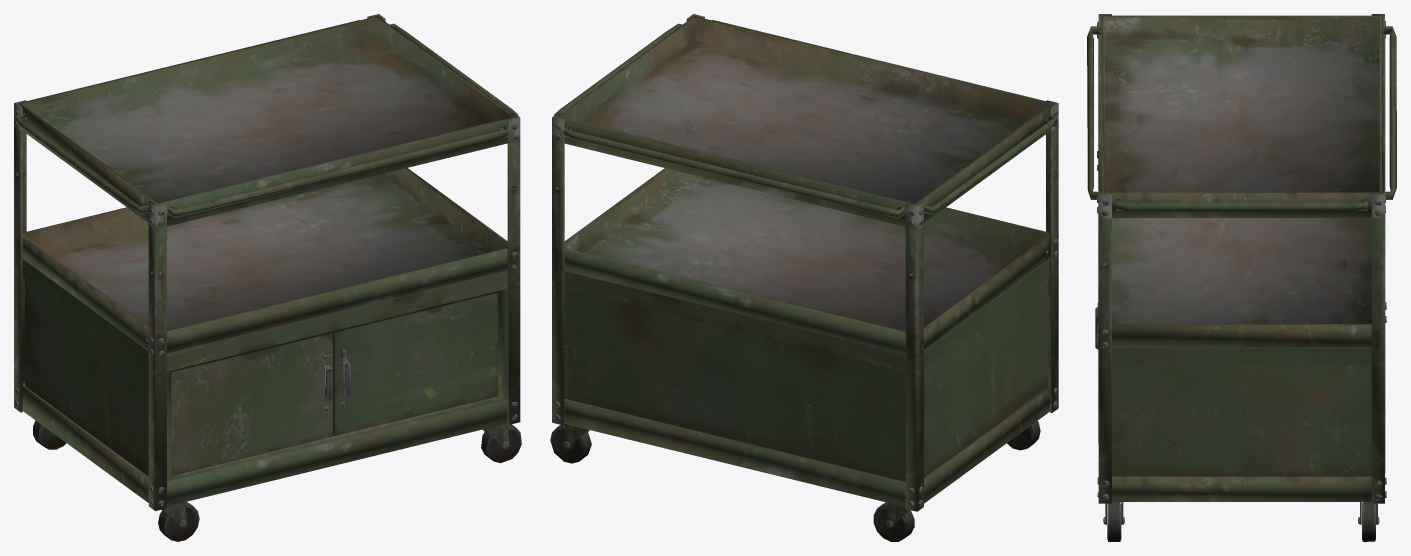
File: industrial_storage_cart.glb
3 views of the same model, side by side, from view 1: azimuth 30°, elevation 25°; view 2: azimuth 150°, elevation 25°; view 3: azimuth 270°, elevation 25° (orthographic).
Parts seen in each view (by area): view 1: industrial_storage_cart; view 2: industrial_storage_cart; view 3: industrial_storage_cart.
Boxes of the visible parts, bbox=[...] form: industrial_storage_cart: bbox=[14, 14, 521, 541]; industrial_storage_cart: bbox=[550, 14, 1058, 541]; industrial_storage_cart: bbox=[1087, 14, 1396, 541].
Bounding box in the file's own units: 1.6 × 1.38 × 1.1.
Materials: 1 (1 with a texture image).
